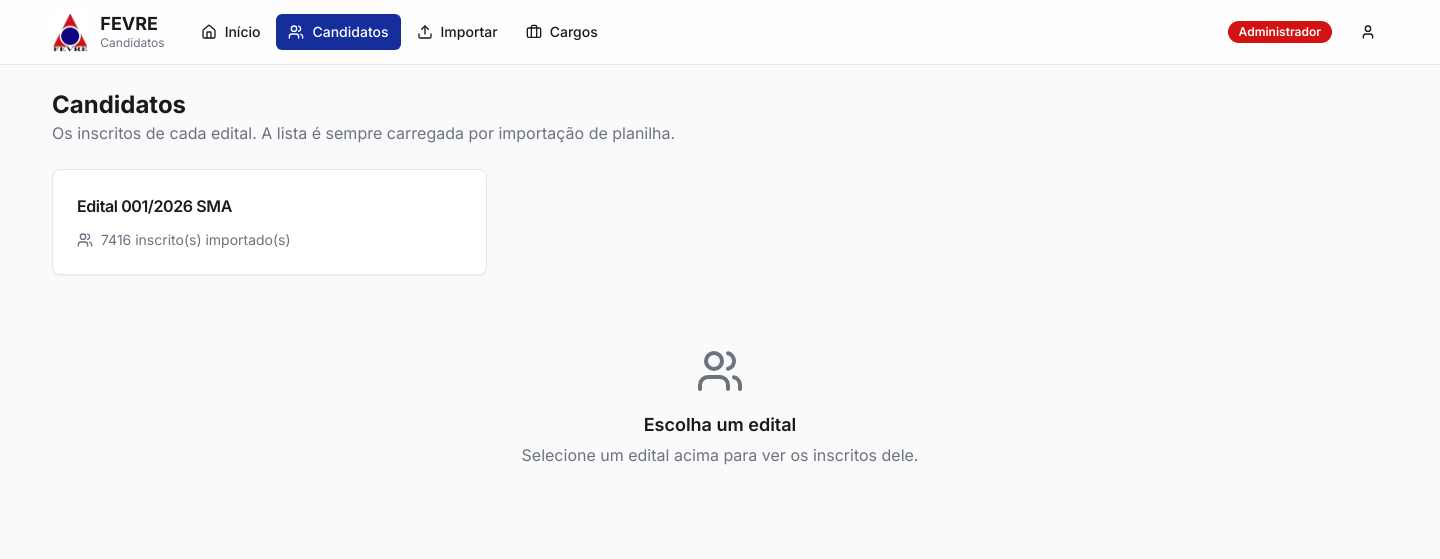
Candidatos (interação) › com o edital escolhido › ⭐ lista o cargo CANÔNICO, não o texto sujo da planilha
The image size is (1440, 559).
What coordinates should you click on to do the following:
click the button "Edital 001/2026 SMA 7416 inscrito(s) importado(s)"
I would click on:
 (154, 206)
Its box is [52,169,487,275].
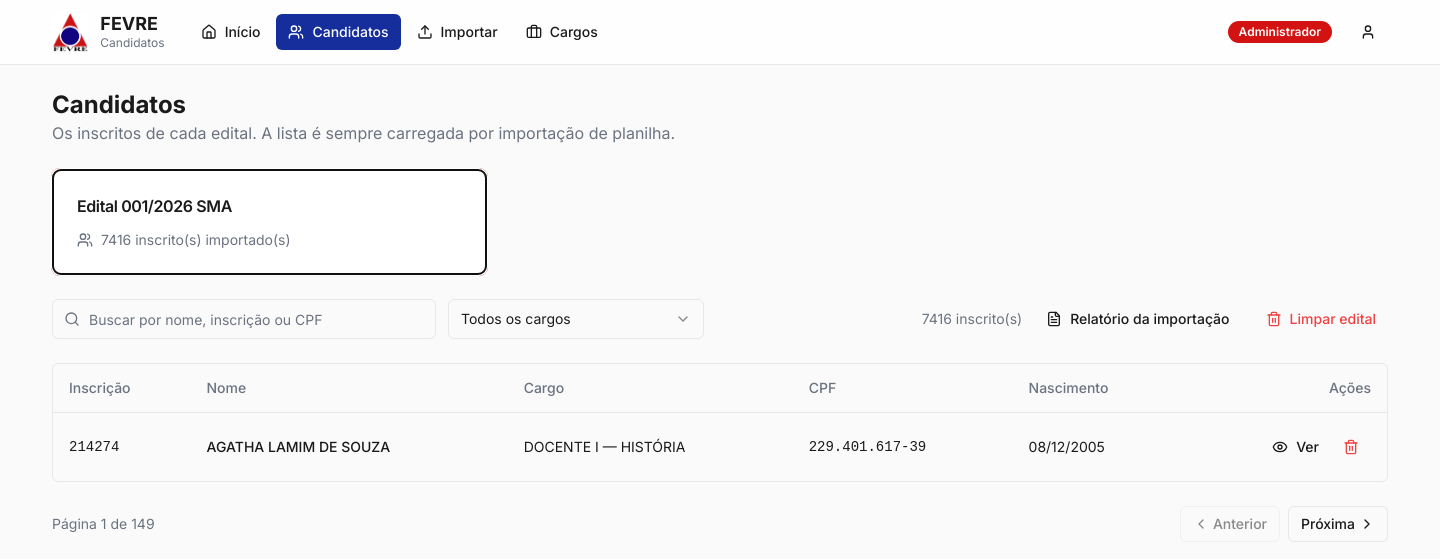
Now the text "AGATHA LAMIM DE SOUZA" is shown, box [206,438,390,454]
Now the text "214274" is shown, box [53,412,190,480]
Now the text "DOCENTE I — HISTÓRIA" is shown, box [508,412,793,480]
